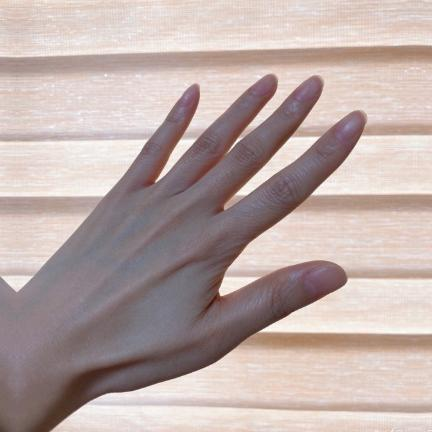Nail: (304, 265, 347, 298), (335, 109, 366, 144), (293, 76, 323, 102), (248, 74, 278, 95), (179, 84, 199, 107)
